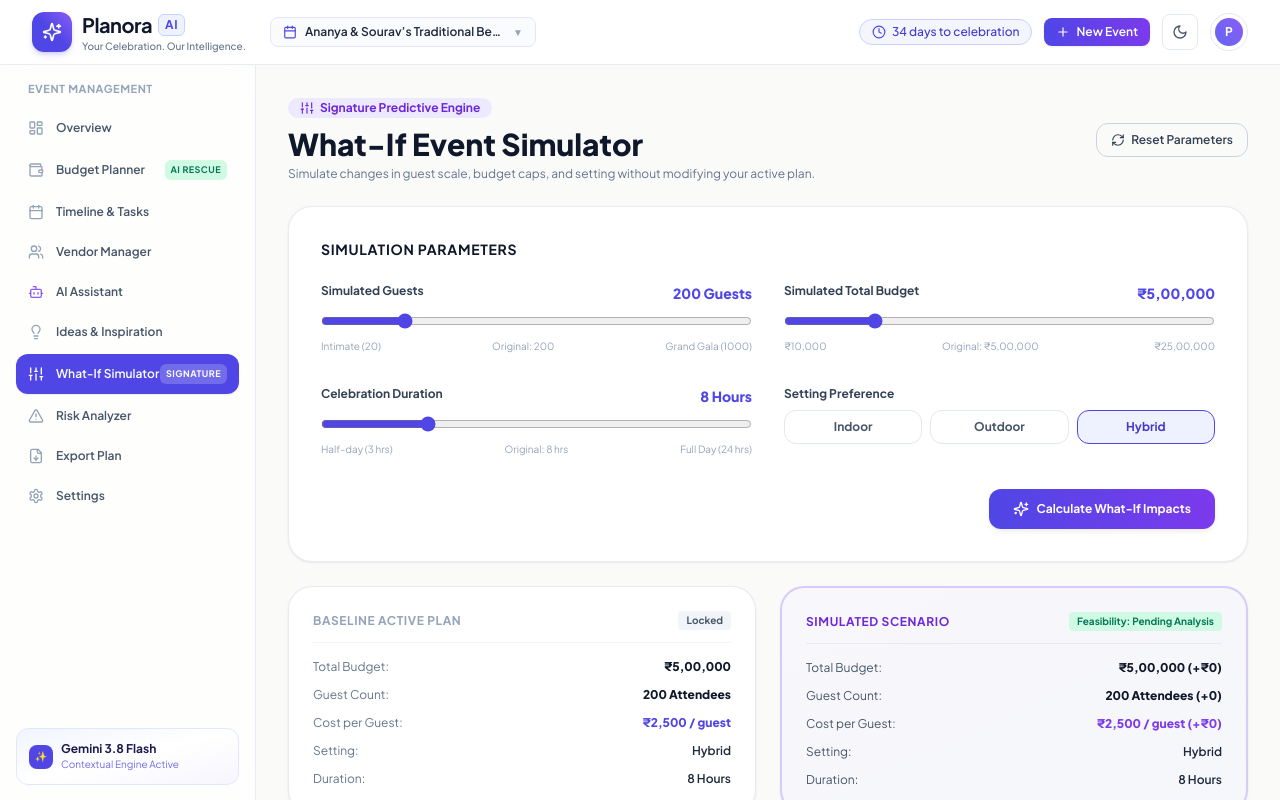
Scenario: Complete 10-Step Automated User Journeys › Journey 7: What-If Simulator experimentation and side-by-side comparison
Check: the heading "What-If Event Simulator" is shown, box [288,125,643,163]
Click the button "Calculate What-If Impacts" at (1102, 509), box [989,489,1215,529]
(page scrolled)
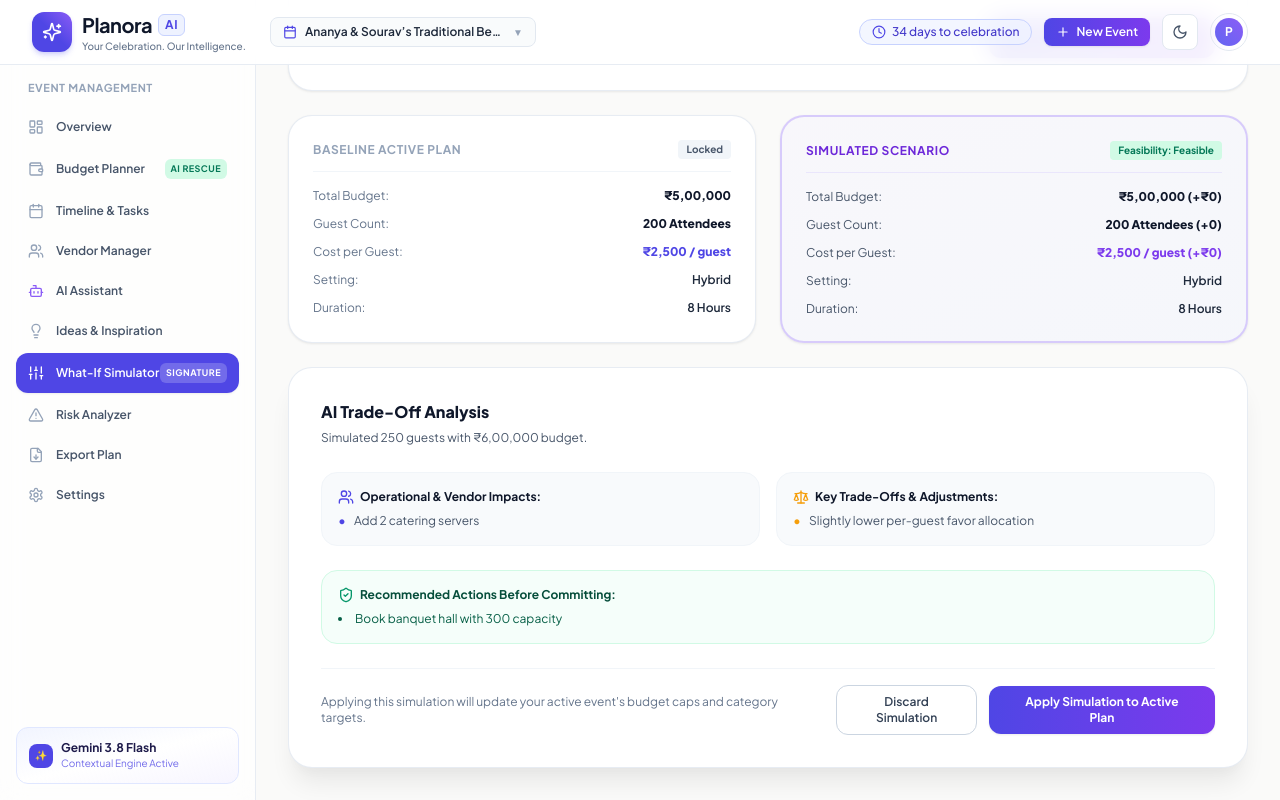
Check: the text "Simulated 250 guests with ₹6,00,000 budget." is shown, box [321,430,587,445]
